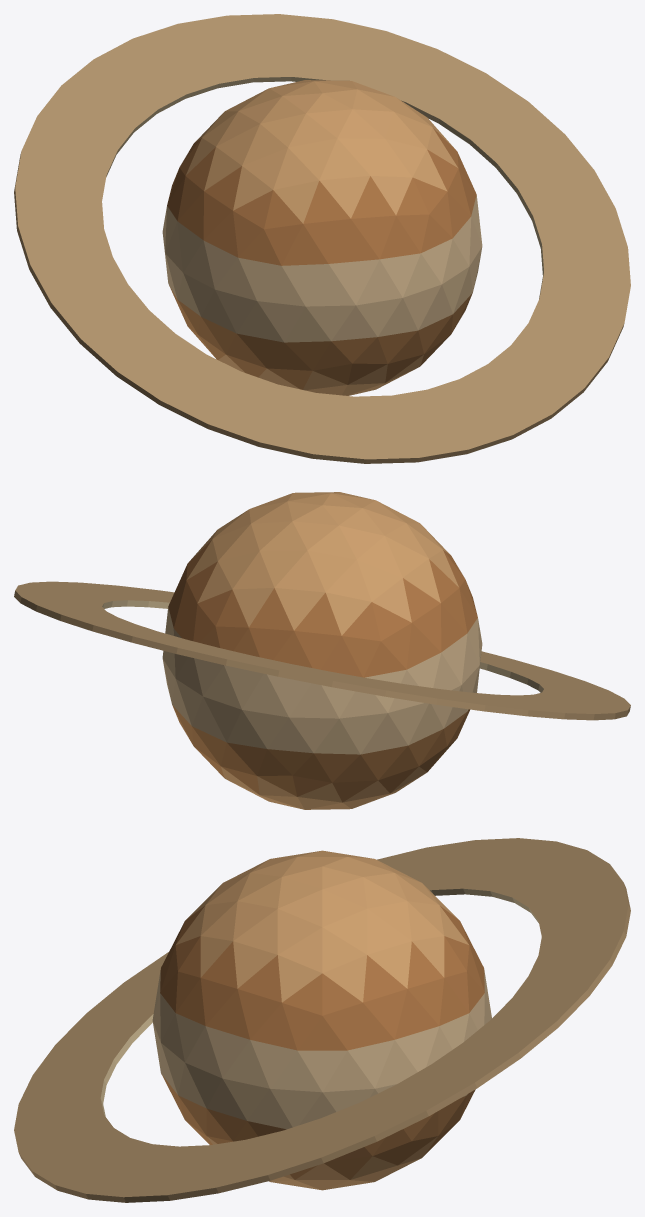
Rendered from planet_ring.glb.
The picture shows the model from 3 angles, top to bottom: view 1: azimuth 30°, elevation 25°; view 2: azimuth 150°, elevation 25°; view 3: azimuth 270°, elevation 25°; orthographic projection. The views are drawn at different scales.
Parts seen in each view (by area): view 1: Body; view 2: Body; view 3: Body.
Part boxes in pixels (bbox=[...]): Body: bbox=[14, 14, 630, 463]; Body: bbox=[14, 492, 630, 809]; Body: bbox=[14, 838, 630, 1202].
Size of the model in its own units: 3.9 by 2 by 3.63.
